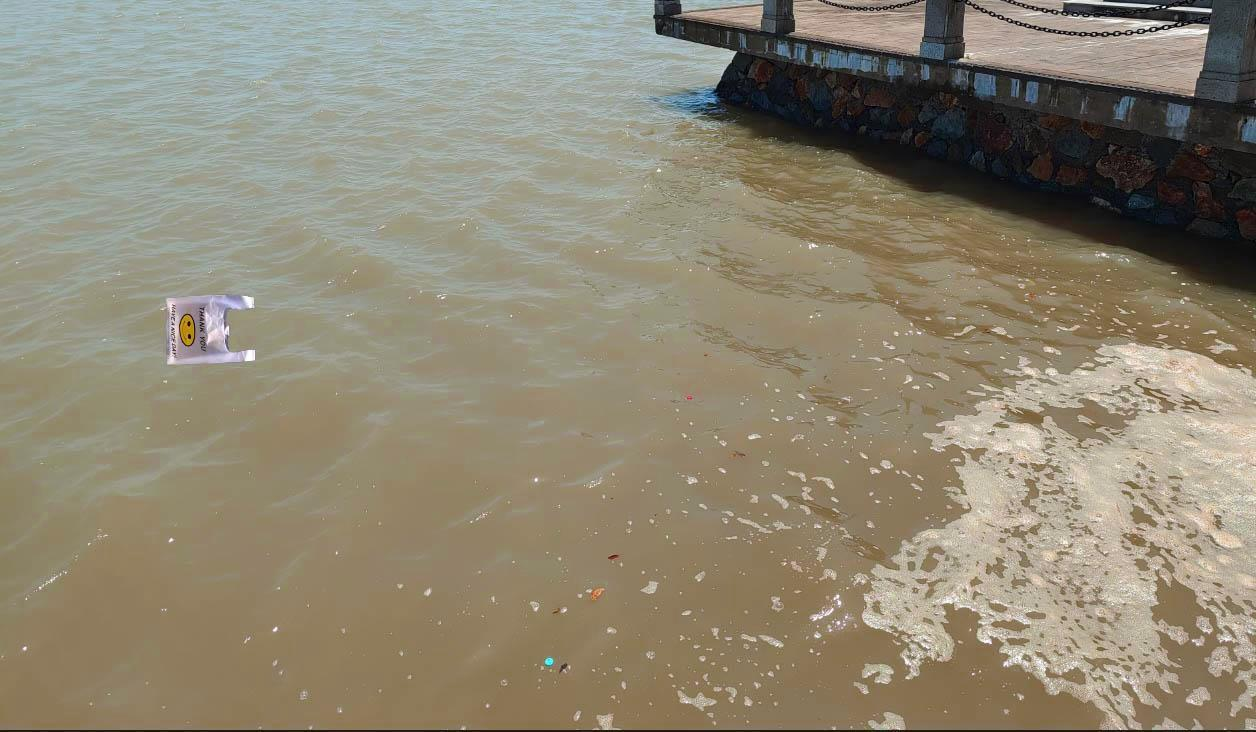Trash: (160, 286, 257, 374)
